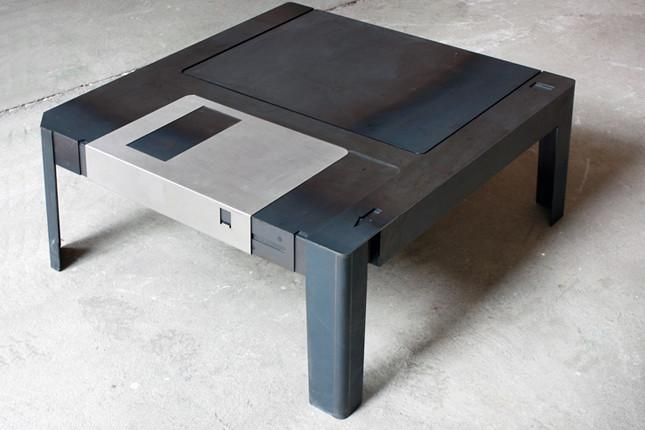table: (40, 2, 576, 420)
